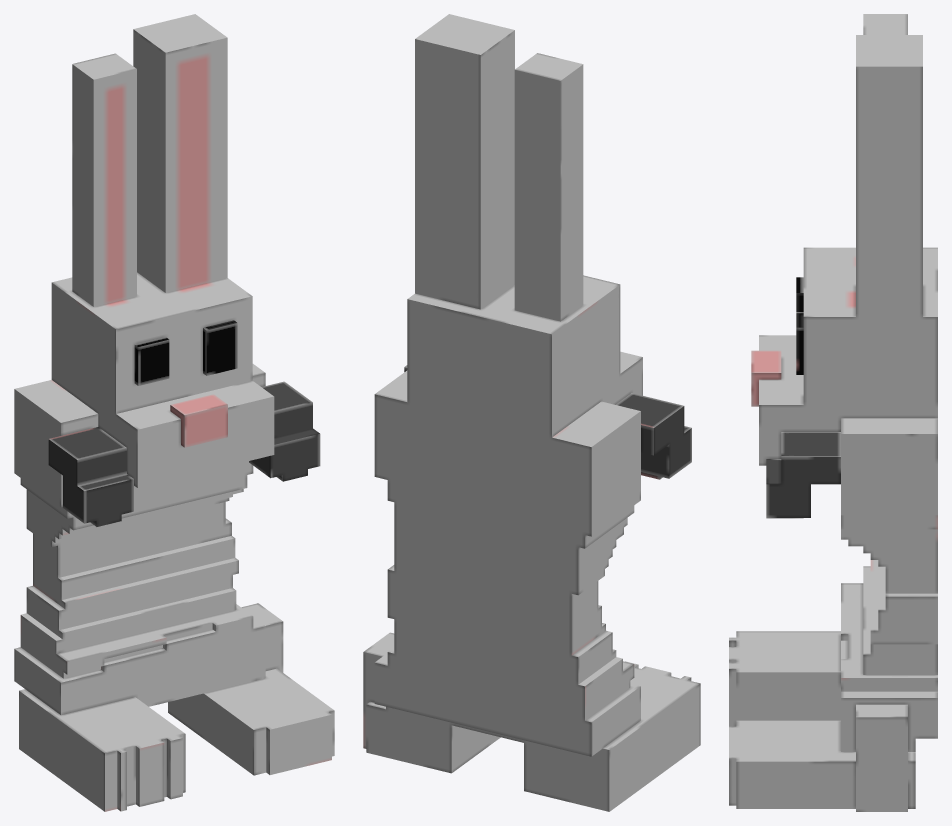
The model's file is rabbit_1.fbx.
The picture shows the model from 3 angles, left to right: view 1: azimuth 30°, elevation 25°; view 2: azimuth 150°, elevation 25°; view 3: azimuth 270°, elevation 25°; orthographic projection. The views are drawn at different scales.
Visible parts, largest first — view 1: rabbit_1.001; view 2: rabbit_1.001; view 3: rabbit_1.001.
Part boxes in pixels (x1,y1,x2,y2): rabbit_1.001: [14, 14, 334, 811]; rabbit_1.001: [363, 14, 700, 811]; rabbit_1.001: [729, 14, 937, 811].
Bounding box in the file's own units: 3.9 × 10.6 × 2.8.
1 material, 1 textured.
